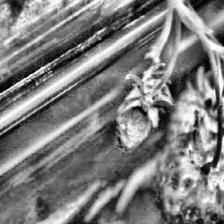Gray Mold: (114, 62, 176, 153)
